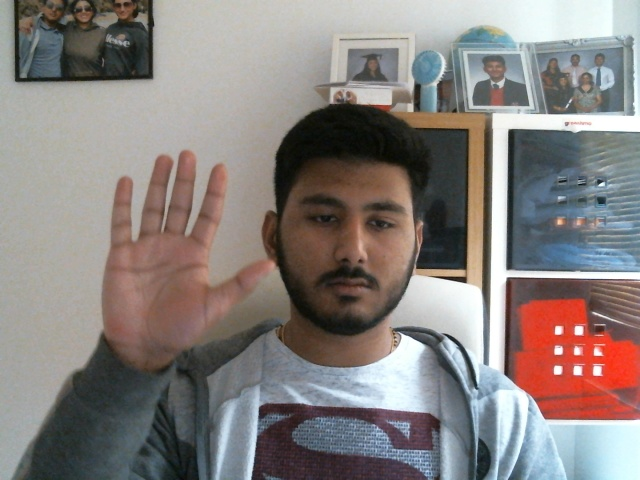hello: (101, 149, 275, 369)
